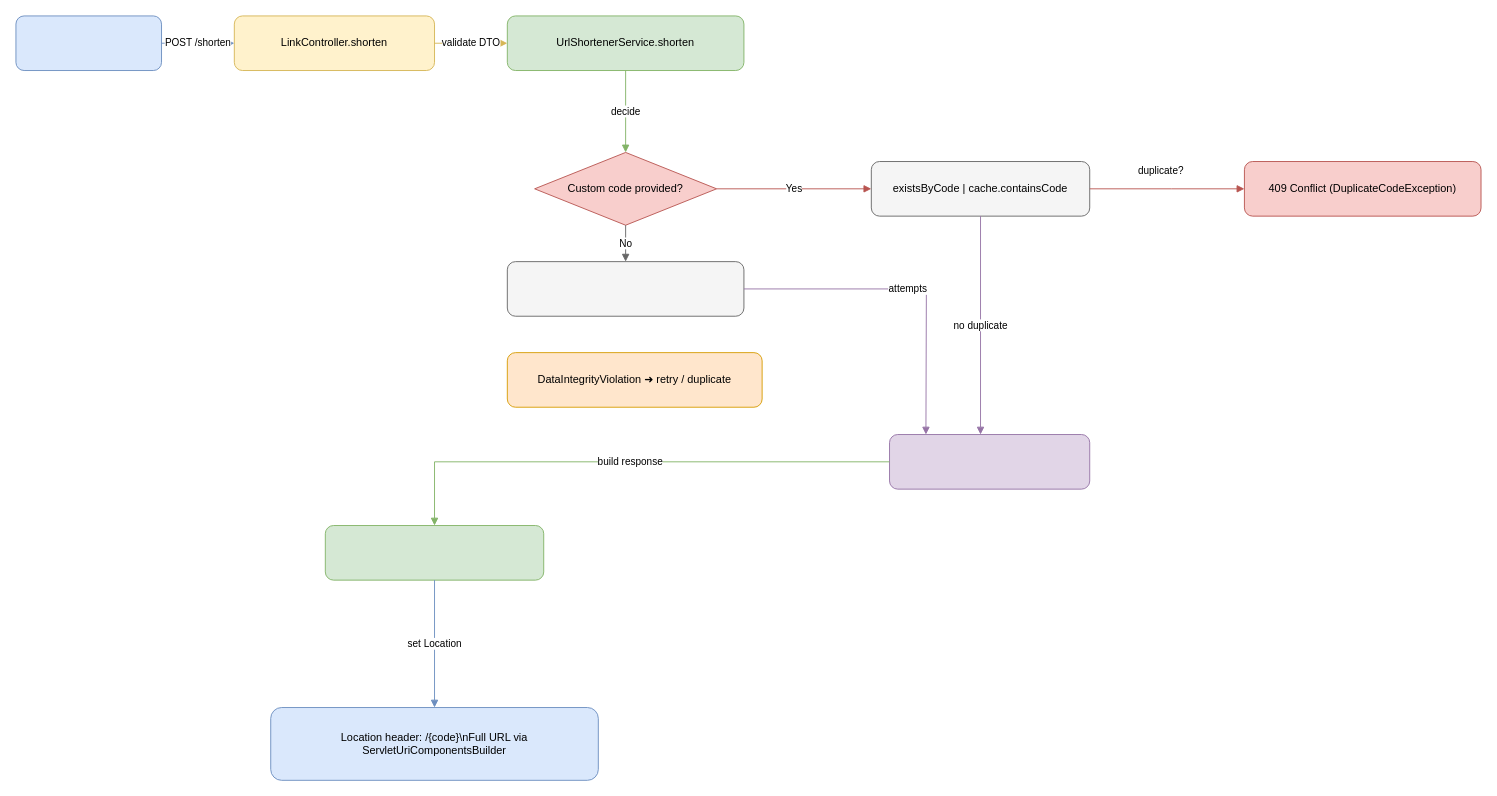
Image size: 1497x796. Some labels were removed from this diagram. Each missing label, with the box of its shape:
201 Created + ShortenResponse: (324, 525, 544, 580)
Client: (15, 15, 162, 71)
Generate random code (max 5 attempts): (506, 261, 744, 316)
saveAndFlush(ShortUrl): (889, 434, 1090, 489)
